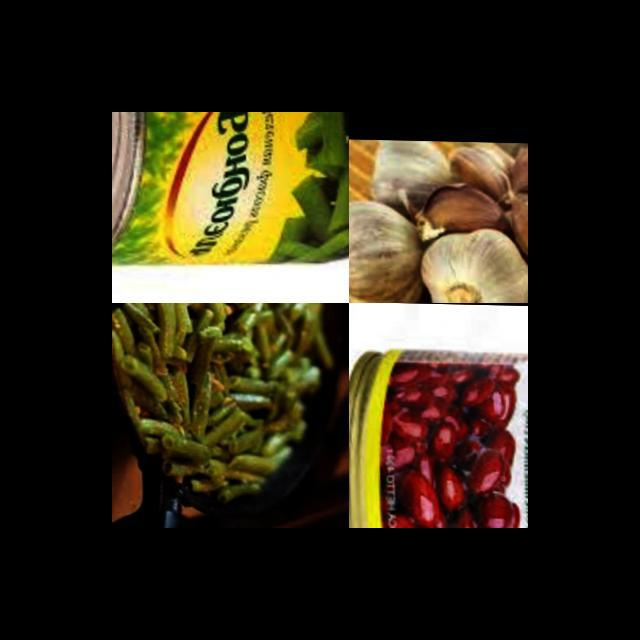garlic: (408, 216, 528, 303), (349, 191, 430, 303), (410, 174, 510, 240), (360, 138, 454, 208), (451, 140, 528, 192), (497, 187, 528, 260)
